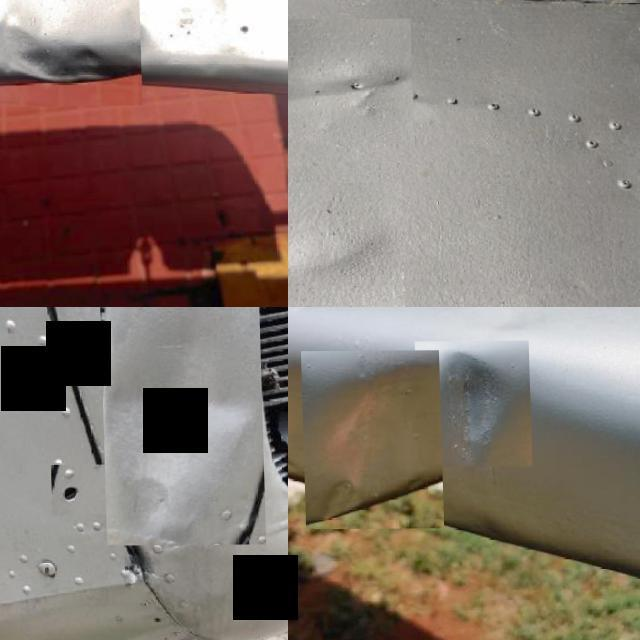Dent: (99, 307, 264, 545), (299, 351, 441, 530), (288, 19, 412, 143), (0, 0, 139, 107), (413, 342, 530, 468), (288, 182, 402, 307)
Missing_Fastener: (50, 465, 104, 515)
